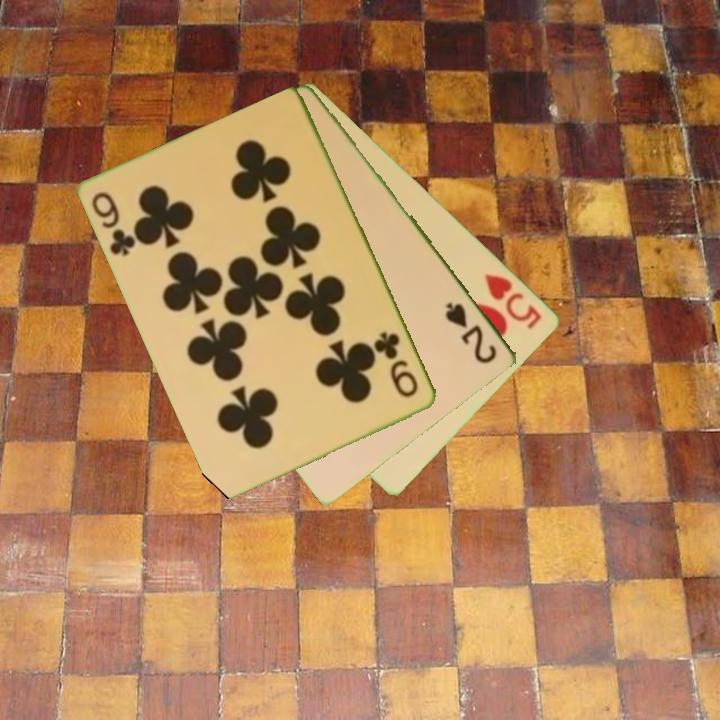2s: (442, 298, 501, 367)
5h: (481, 270, 545, 332)
9c: (373, 327, 422, 401), (88, 188, 139, 259)
